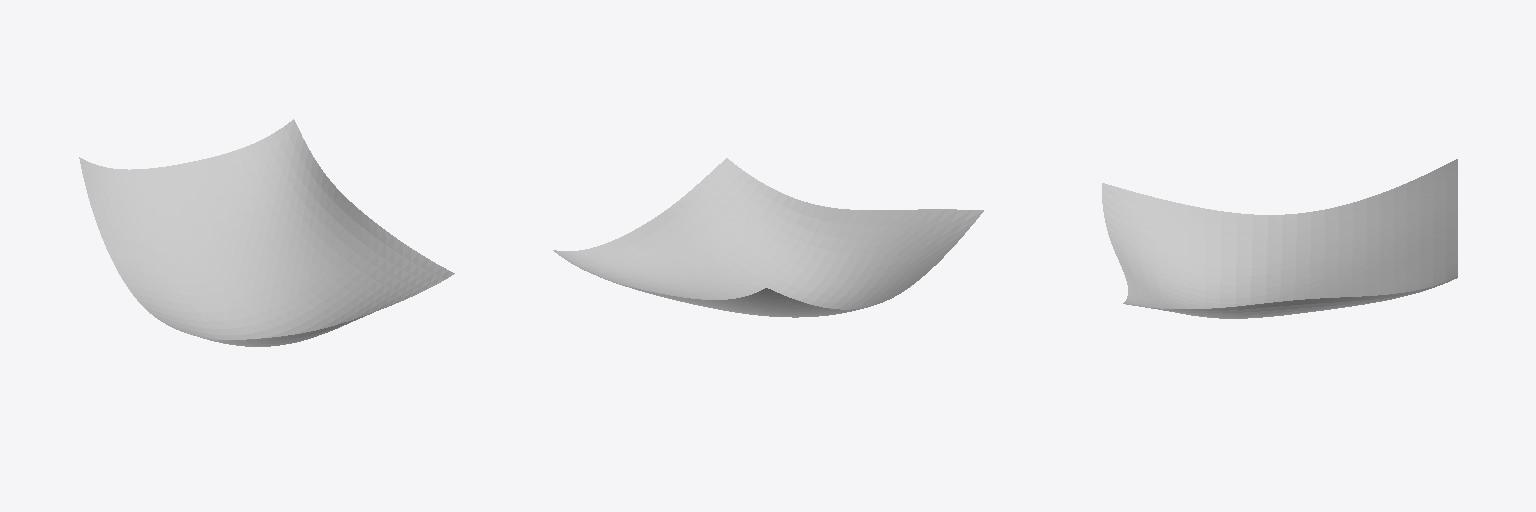
File: Complex_Surf_start.obj
3 views of the same model, side by side, from view 1: azimuth 30°, elevation 25°; view 2: azimuth 150°, elevation 25°; view 3: azimuth 270°, elevation 25° (orthographic).
Parts seen in each view (by area): view 1: [local-path]/hanan/hananLab/QS_project/data/Remeshing/Complex_Su; view 2: [local-path]/hanan/hananLab/QS_project/data/Remeshing/Complex_Su; view 3: [local-path]/hanan/hananLab/QS_project/data/Remeshing/Complex_Su.
Part boxes in pixels (left/top/right/bottom): [local-path]/hanan/hananLab/QS_project/data/Remeshing/Complex_Su: left=79, top=119, right=454, bottom=346; [local-path]/hanan/hananLab/QS_project/data/Remeshing/Complex_Su: left=553, top=158, right=983, bottom=317; [local-path]/hanan/hananLab/QS_project/data/Remeshing/Complex_Su: left=1102, top=159, right=1457, bottom=318.
Bounding box in the file's own units: 1.16 × 0.4807 × 1.41.